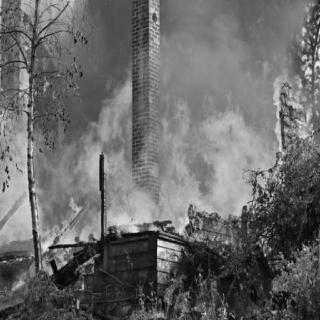Fire: (5, 74, 311, 284)
Smoke: (160, 8, 268, 76), (76, 8, 122, 68)
